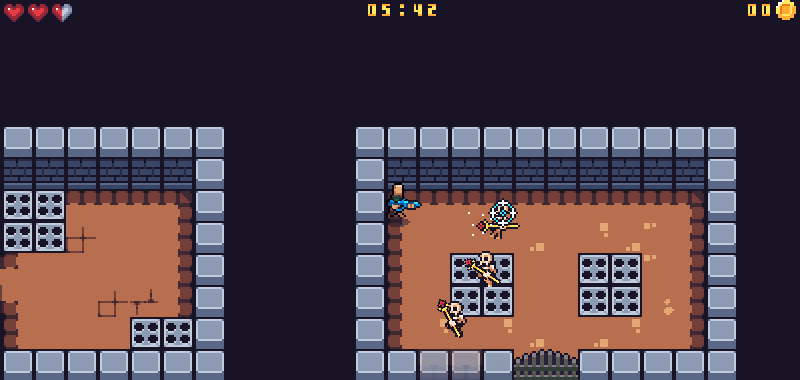enemy_skeleton: (465, 252, 498, 290), (436, 296, 466, 335), (476, 214, 517, 238)
trap_off: (453, 253, 513, 316), (579, 255, 640, 316), (3, 192, 64, 252), (132, 316, 194, 350)
